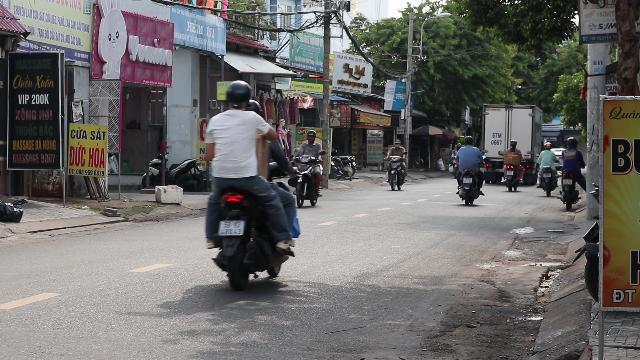helmet: (222, 80, 252, 110)
licenseplate: (220, 219, 244, 234)
motorcyclist: (198, 78, 302, 290)
